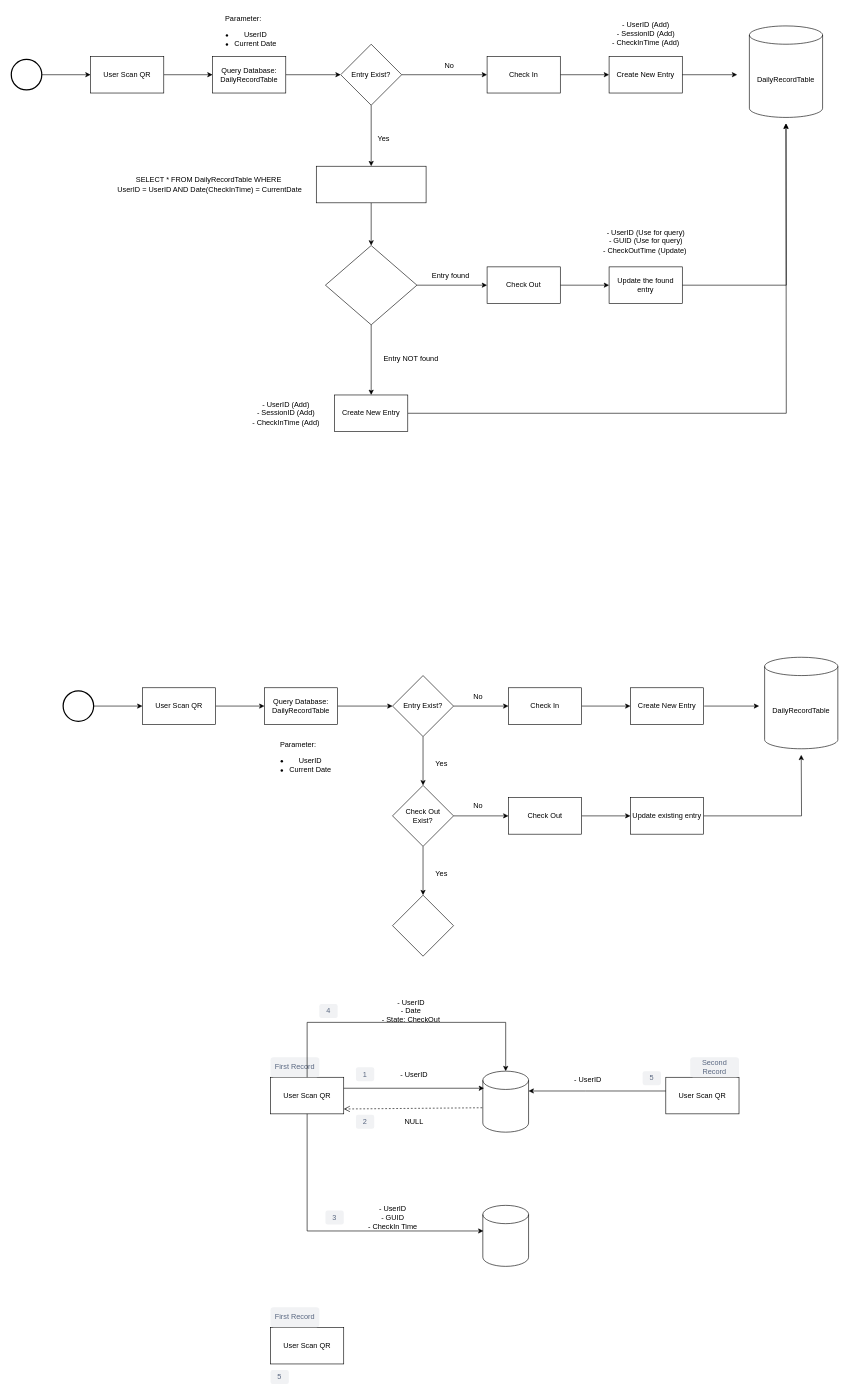
Some shapes in this 849 by 1394 pixel diagram are drawn without their labels. The centre of each missing label's shape, as x and y in pixels:
Check In Exist: the point at 423,925
DailyRecord Table: the point at 505,1235
Look for entry that has check in but NO check out: the point at 371,285
Retrieve List<DailyRecordTable>(CurrentDate): the point at 371,184
State Table: the point at 505,1101
